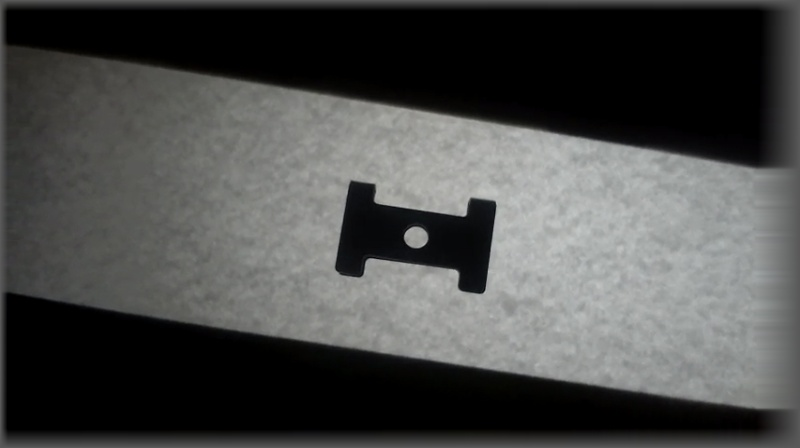O002: (332, 178, 499, 295)
